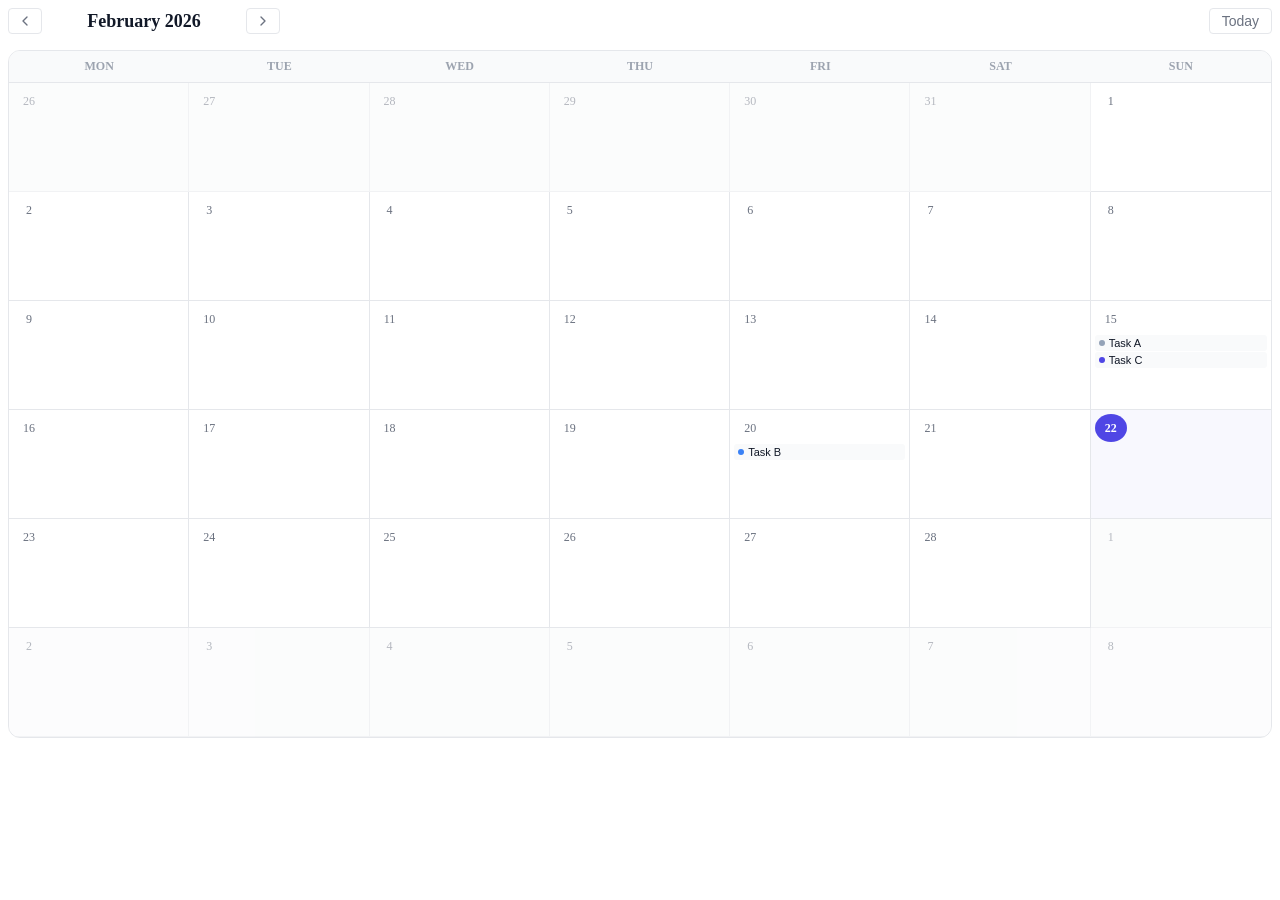
Test: CalendarView › navigates to previous month
The image size is (1280, 900).
Click the button named "Previous month".
click(25, 21)  # box 8,8 -> 42,34
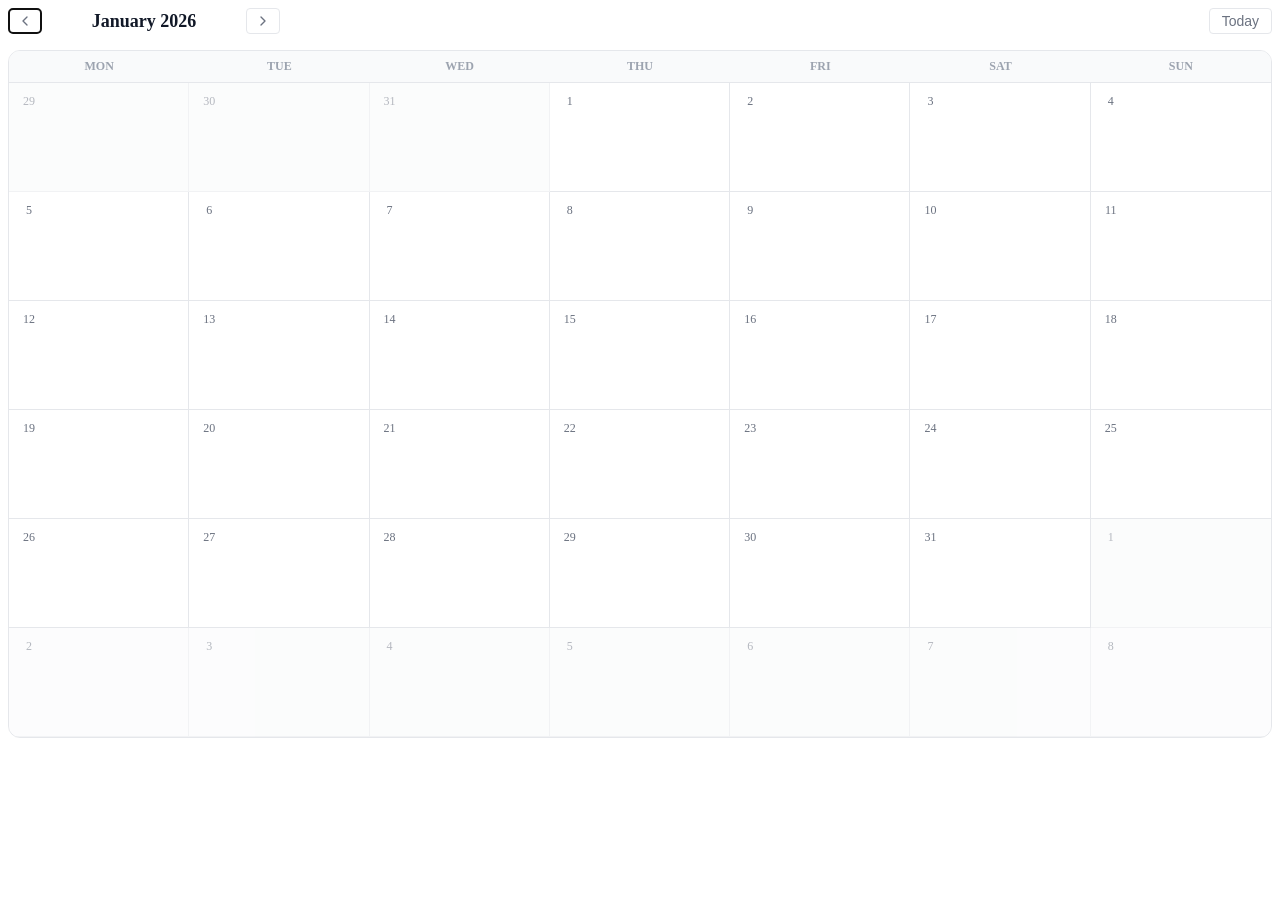
expect the text with class "db-calendar-view__month" no longer shows "February 2026": met
